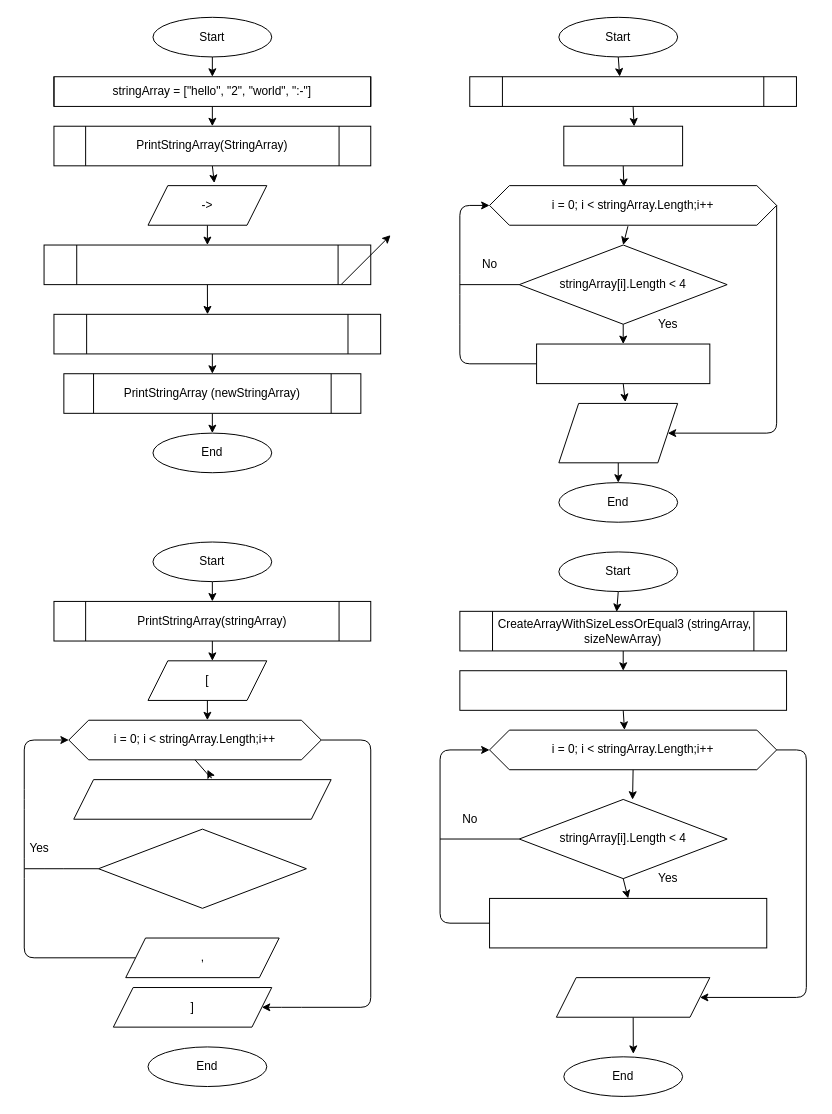
The diagram is 832 pixels wide and 1114 high, and some of its shapes have lost their labels. The shapes that lost their labels are listed below. From the top down, each one's box as (x1, y1, x2, y2) in pixels, then its label:
(469, 76, 796, 106): SearchStringsWihtSizeLessOrEqual3(stringArray)
(563, 125, 683, 166): numberOfString = 0;
(43, 244, 371, 285): sizeNewArray = SearchStringsWihtSizeLessOrEqual3(stringArray)
(53, 313, 381, 354): newStringArray = CreateArrayWithSizeLessOrEqual3 (stringArray, sizeNewArray)
(536, 343, 710, 384): numberOfString++
(558, 402, 678, 463): return numberOfString
(459, 670, 787, 710): string[] newStringArray = new String[sizeNewArray] j = 0
(73, 779, 331, 819): "stringArray[i]"
(98, 828, 306, 908): i == stringArray.Length-1
(489, 897, 767, 948): newStringArray[j] = stringArray[i] j++
(555, 977, 710, 1017): return newStringArray
